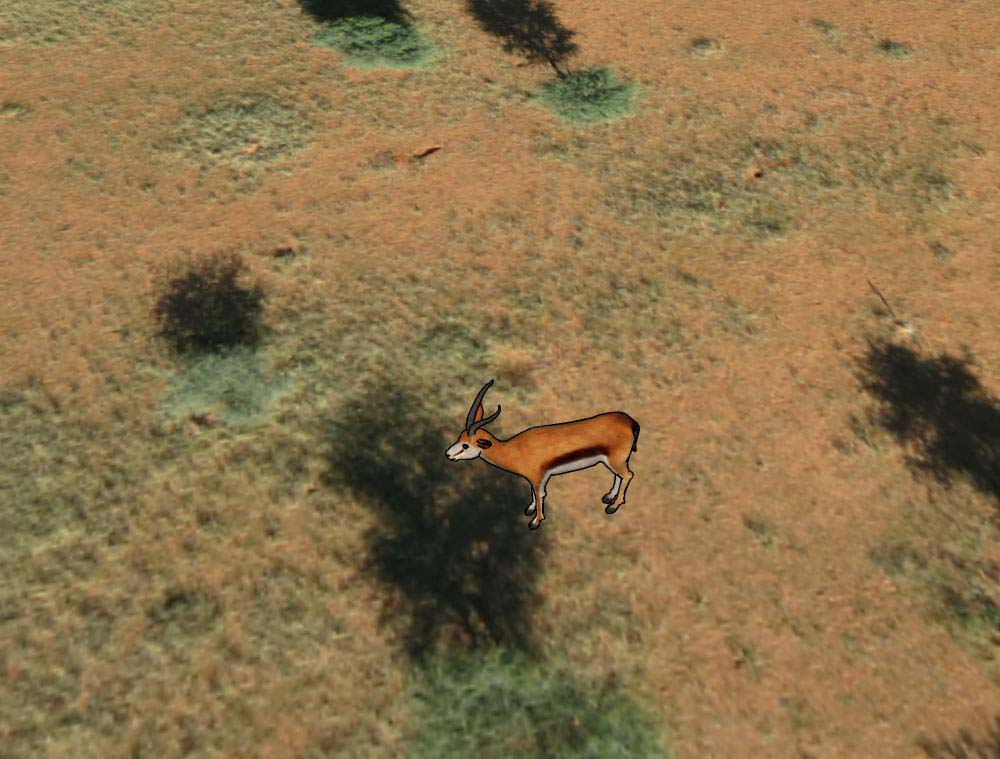springbok: (443, 375, 642, 532)
